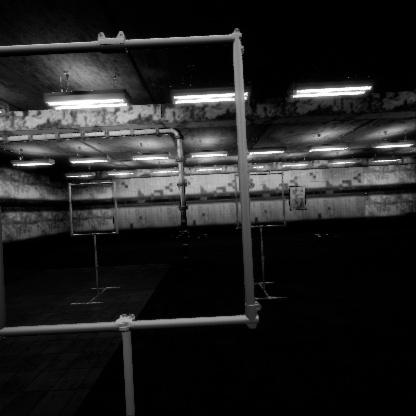gate: (234, 186, 290, 244), (69, 179, 122, 234)
